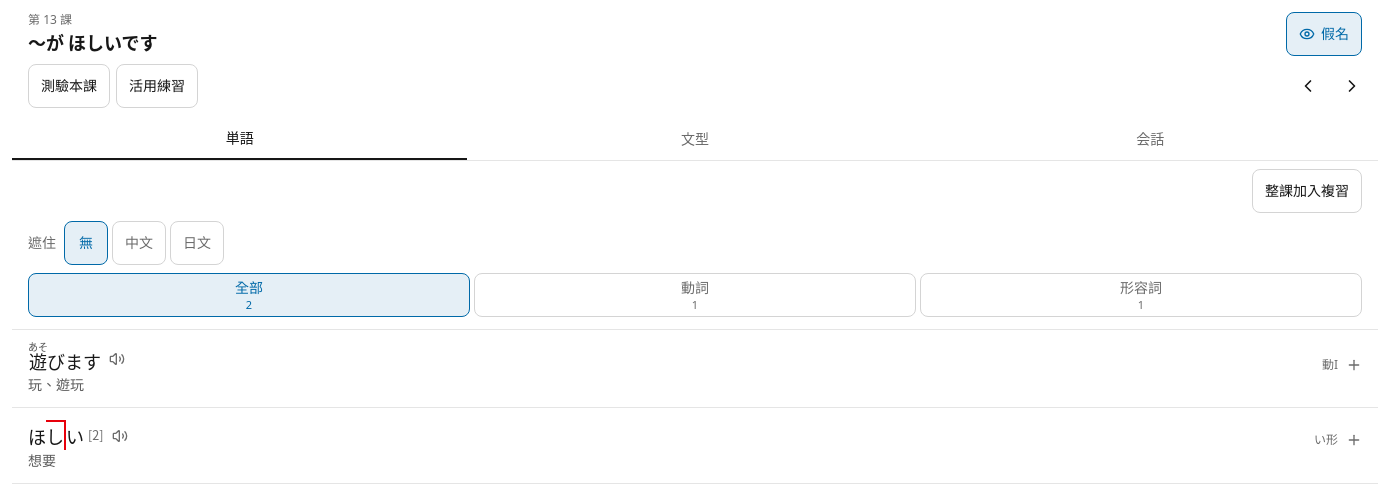
LessonDetail 自我測驗與詞性篩選(T11.1) › 鍵盤揭示:Enter 揭示、Space 遮回,焦點留在同一顆鈕
expect the text "玩、遊玩" is shown: met, box [28,375,84,394]
Click the button "中文": coordinates (139, 243) [112,221,166,265]
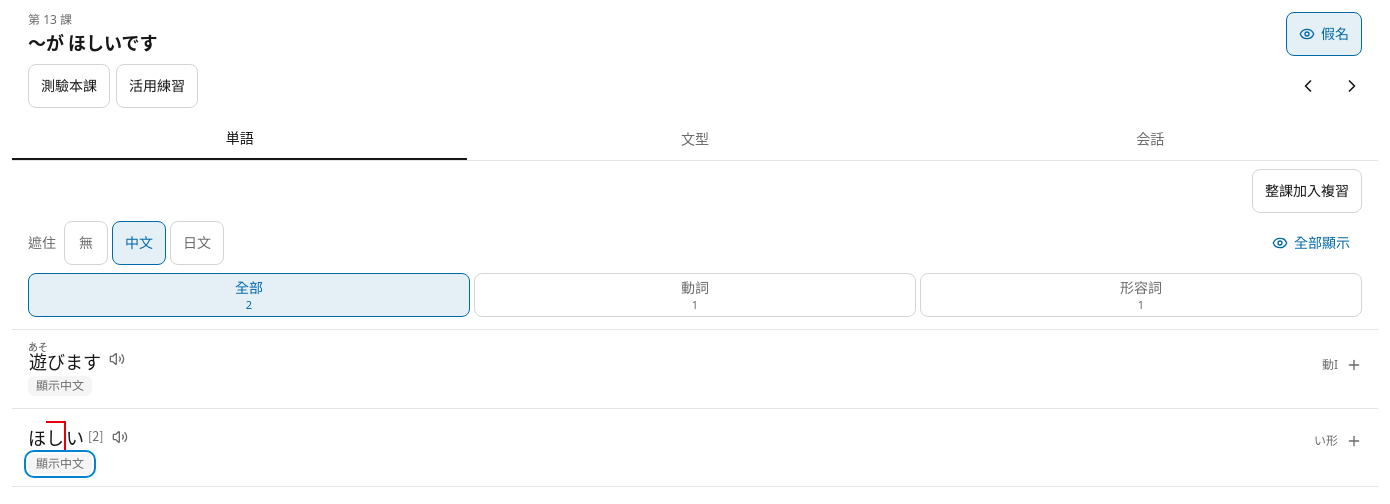
Press Enter
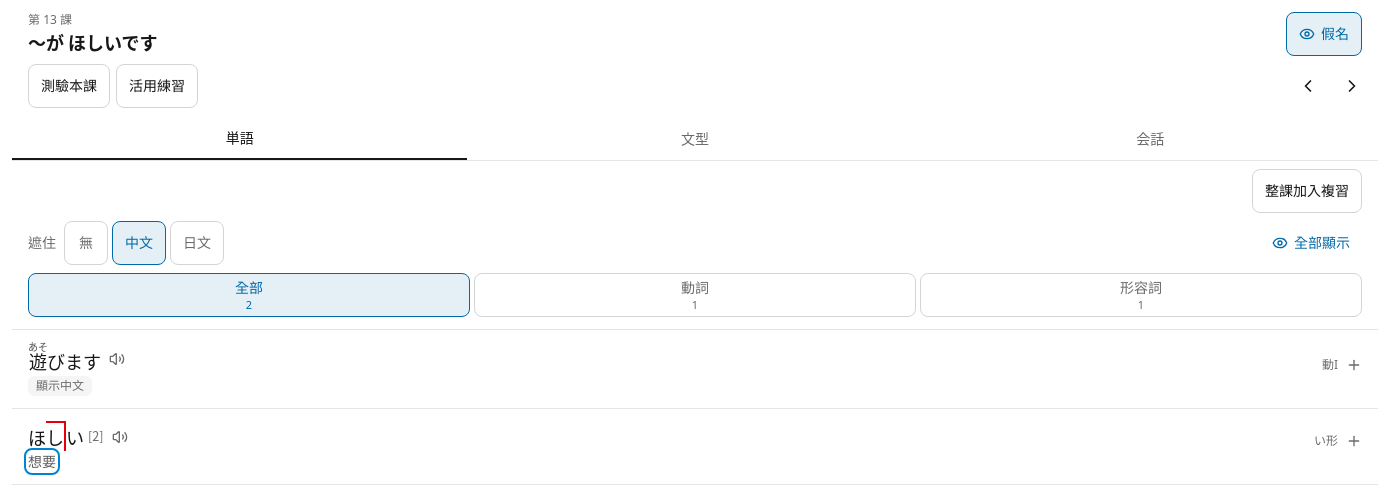
expect the button named "顯示中文:ほしい" is expanded: met, box [28,440,72,484]
expect the text "想要" is shown: met, box [28,452,56,471]
Type keys " "
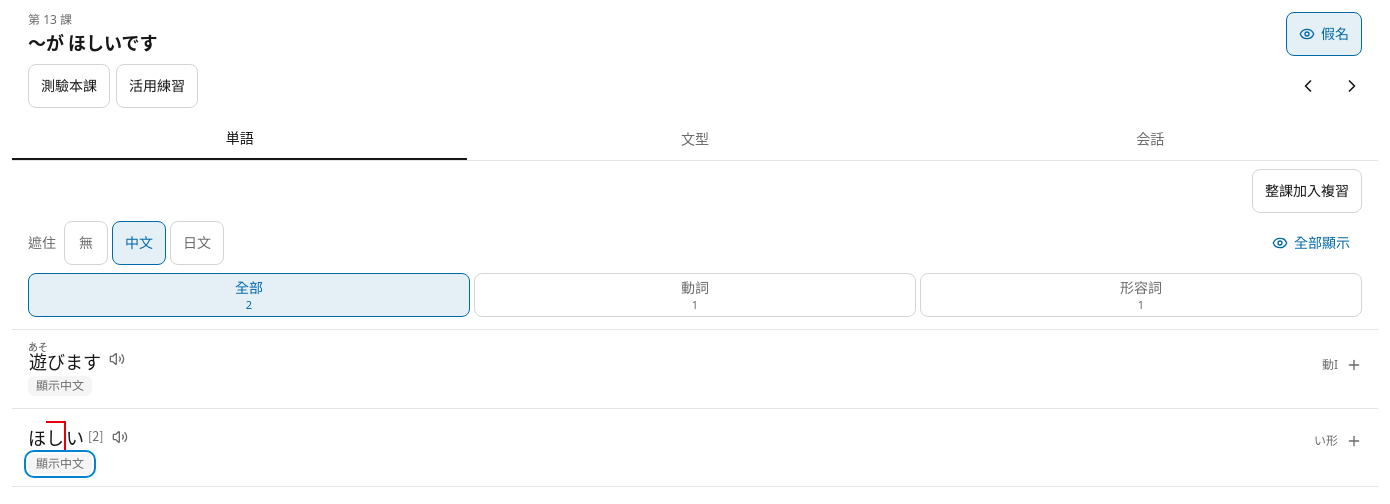
expect the button with aria-label "顯示中文:ほしい" is collapsed: met, box [28,440,92,486]
expect the button "想要" is gone: met
